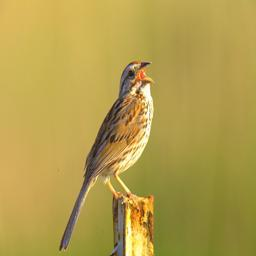Sparrow: (57, 58, 154, 251)
